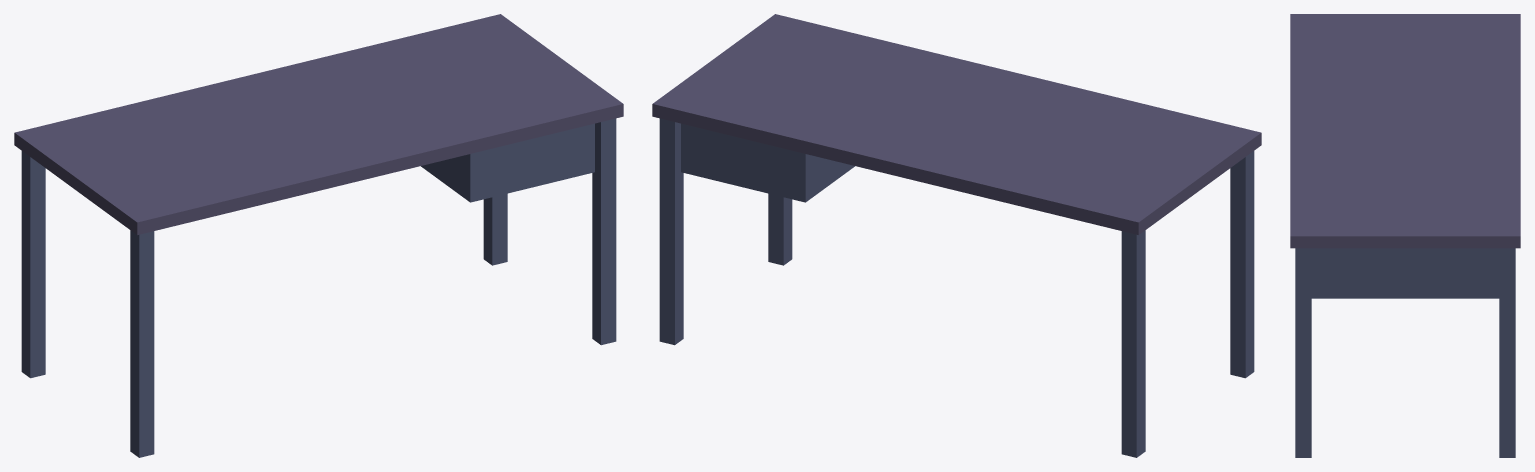
File: Desk.fbx
3 renders of one model, left to right at view 1: azimuth 30°, elevation 25°; view 2: azimuth 150°, elevation 25°; view 3: azimuth 270°, elevation 25°, orthographic. The views are drawn at different scales.
Visible parts, largest first — view 1: Desk; view 2: Desk; view 3: Desk.
Part boxes in pixels (x1,y1,x2,y2): Desk: [14, 14, 623, 457]; Desk: [652, 14, 1261, 457]; Desk: [1290, 14, 1520, 457].
Bounding box in the file's own units: 1.6 × 0.75 × 0.7.
